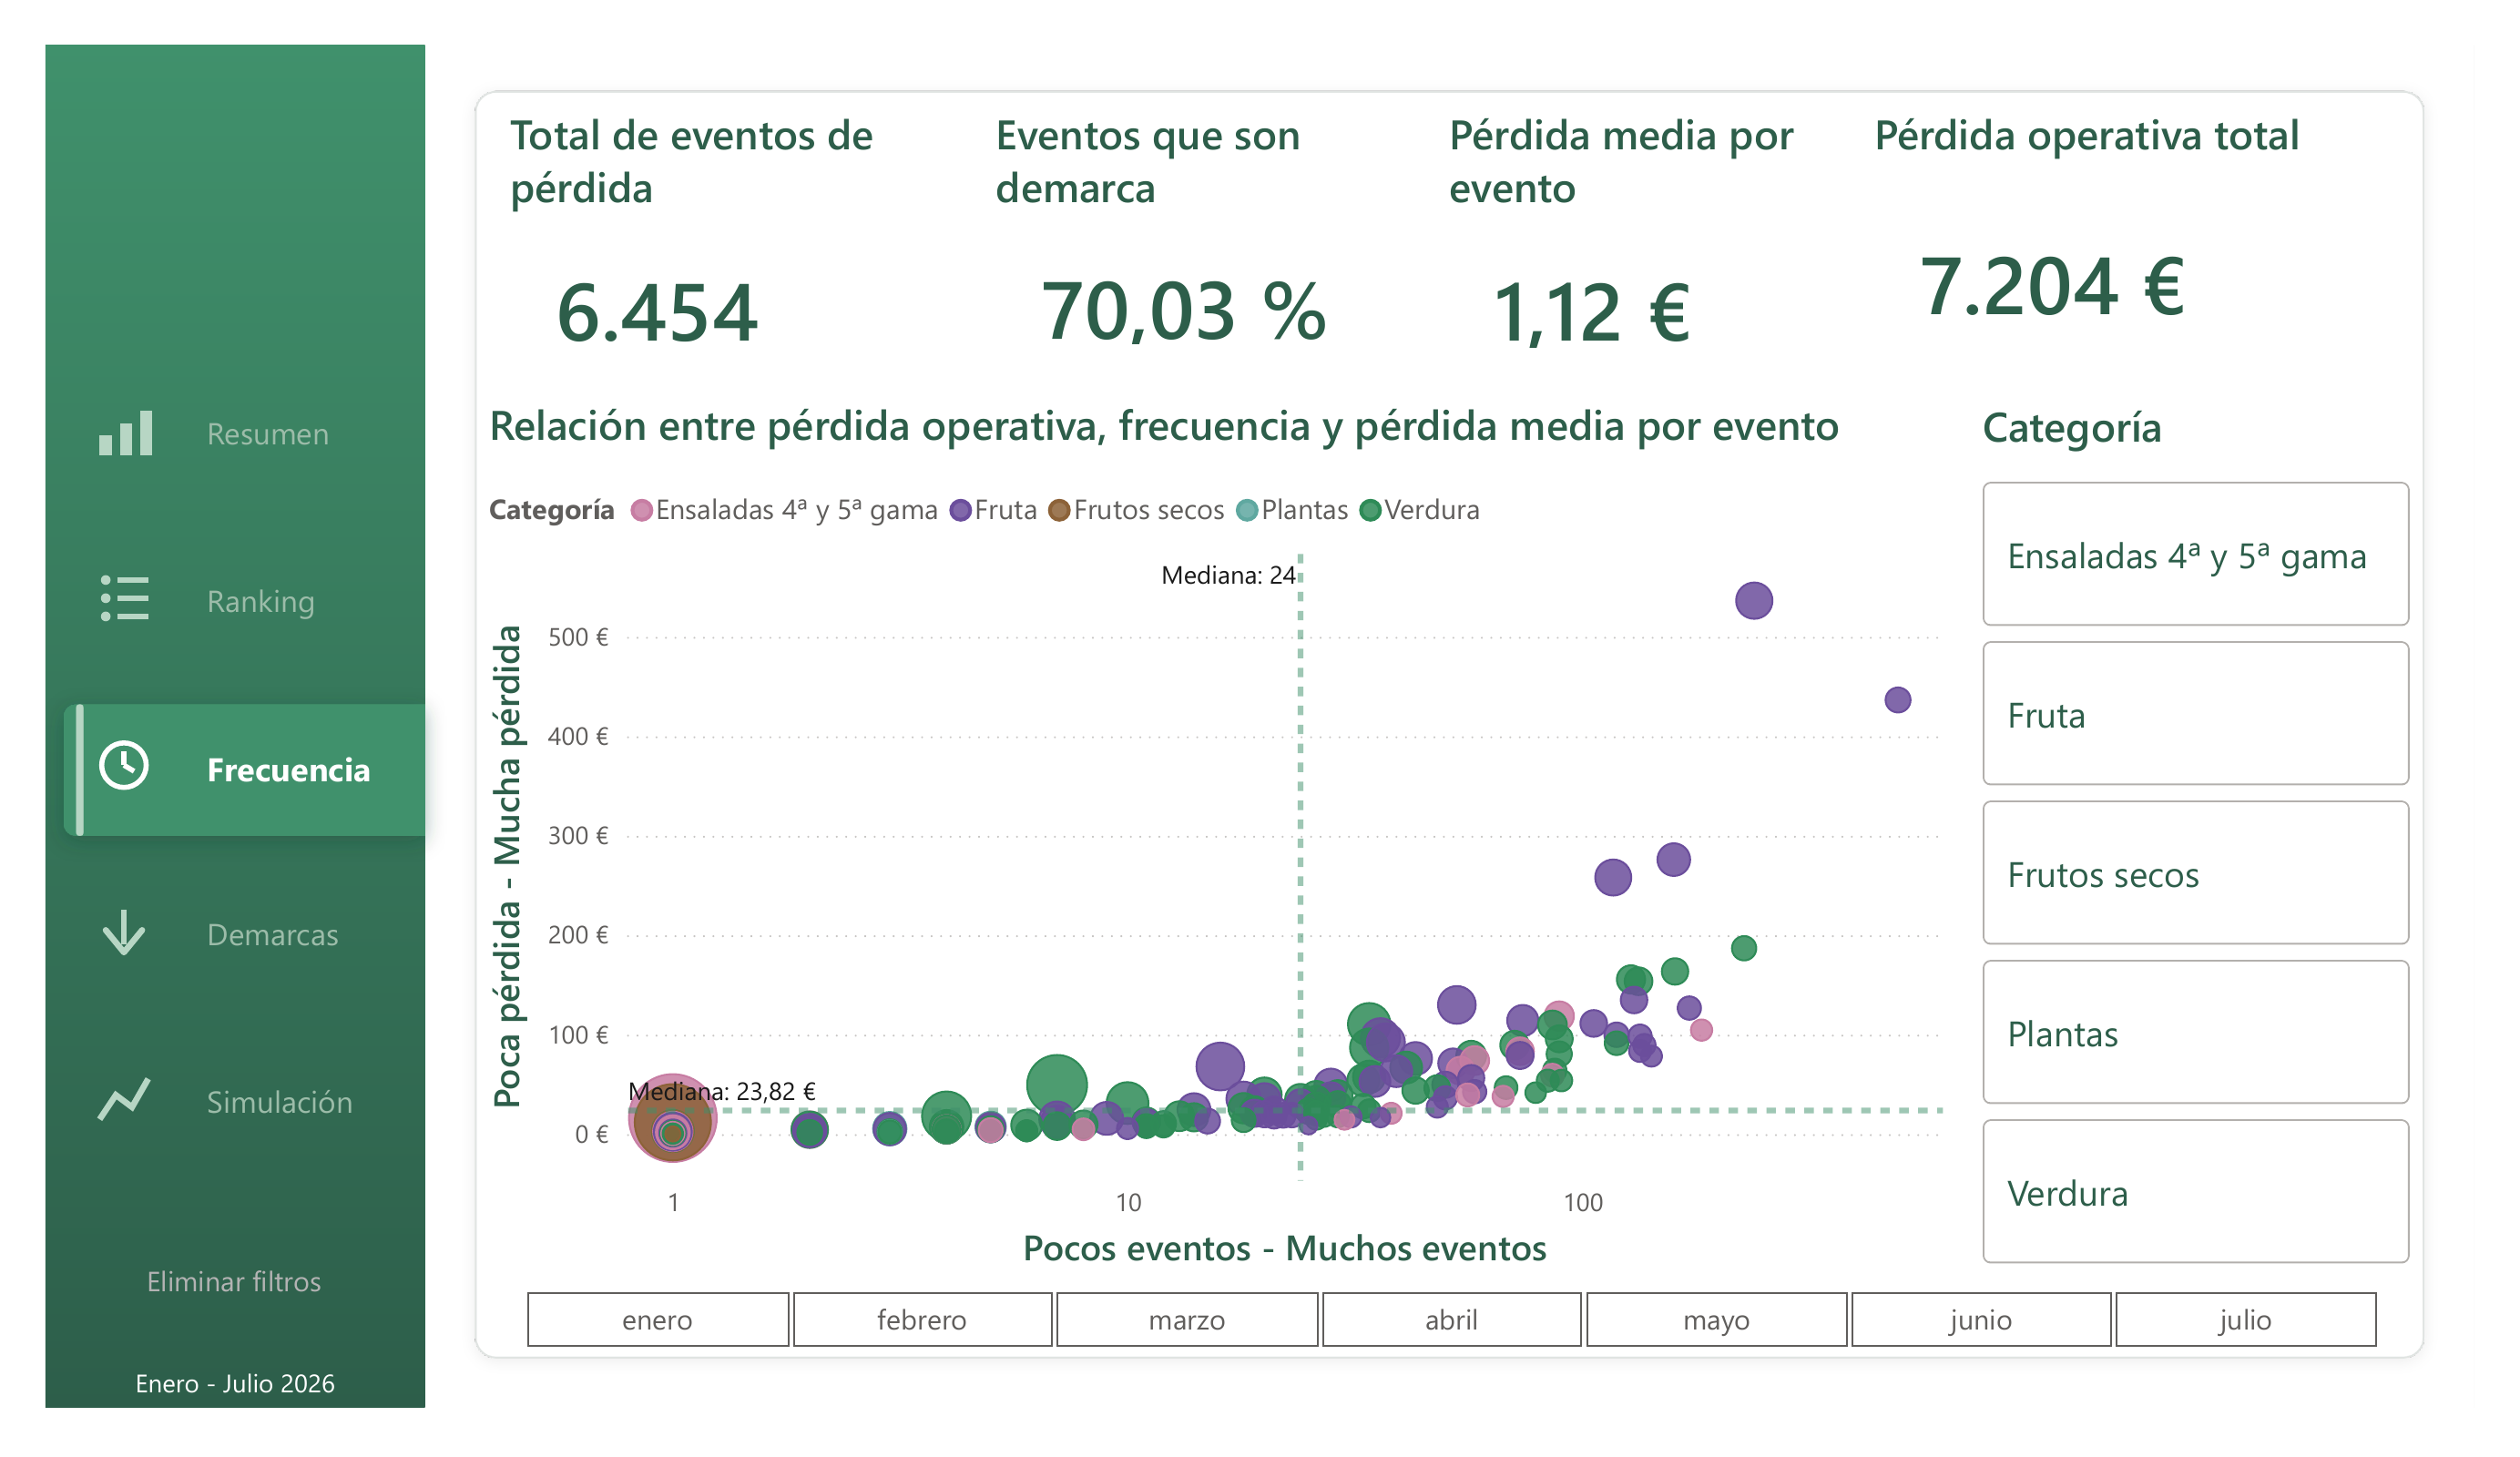

The dashboard page shown, as its layout file describes it:
{"tool":"powerbi","page":{"name":"Frecuencia","canvas":[1280,720],"ordinal":2},"visuals":[{"type":"cardVisual","title":"Total de eventos de pérdida","fields":{"Data":["_Medidas_inventario.Nº Eventos de impacto"]},"box":[240,32,256,144],"z":0},{"type":"cardVisual","title":"Pérdida media por evento","fields":{"Data":["_Medidas_inventario.Impacto  Medio por Evento"]},"box":[735.3,31.8,223.9,144.5],"z":1000},{"type":"scatterChart","title":"Relación entre pérdida operativa, frecuencia y pérdida media por evento","fields":{"Category":["Productos.nombre"],"Series":["Productos.Categoría"],"Y":["_Medidas_Pérdidas_Operativas.Pérdida operativa total (€)"],"X":["_Medidas_Pérdidas_Operativas.Nº Eventos de pérdida"],"Size":["_Medidas_Pérdidas_Operativas.Pérdida media por evento (€)"]},"box":[228.8,185,787.5,465],"z":2000},{"type":"advancedSlicerVisual","fields":{"Values":["Productos.Categoría"]},"box":[1016.2,186.2,235,463.8],"z":3000},{"type":"cardVisual","title":"Pérdida operativa total","fields":{"Data":["_Medidas_ImpactoEconómico.Impacto económico total (€)"]},"box":[959.2,31.8,292.2,144.5],"z":4000},{"type":"actionButton","box":[0,168.6,200,72.9],"z":5000},{"type":"actionButton","box":[0,267.1,200,52.9],"z":6000},{"type":"actionButton","box":[0,440,200,51.4],"z":7000},{"type":"actionButton","box":[0,532.9,200,47.1],"z":8000},{"type":"cardVisual","title":"Eventos que son demarca","fields":{"Data":["_Medidas_Pérdidas_Operativas.% Eventos de demarca"]},"box":[496,32,236.2,142.4],"z":9000},{"type":"textbox","box":[0,688.9,200,31.4],"z":10000},{"type":"slicer","fields":{"Values":["Calendario.Nombre Mes"]},"box":[227.5,650,1025,41.2],"z":11000},{"type":"actionButton","box":[23.8,627.5,151.2,45],"z":12000}]}

Visuals, with their boxes on the page's 1280x720 design canvas (x1, y1, x2, y2). These are canvas units, not pixel positions in the 2520x1457 screenshot, which may show the page scaled, cropped or inside an application window:
"Total de eventos de pérdida" cardVisual: 240:32:496:176
"Pérdida media por evento" cardVisual: 735:32:959:176
"Relación entre pérdida operativa, frecuencia y pérdida media por evento" scatterChart: 229:185:1016:650
advancedSlicerVisual - Productos.Categoría: 1016:186:1251:650
"Pérdida operativa total" cardVisual: 959:32:1251:176
actionButton: 0:169:200:242
actionButton: 0:267:200:320
actionButton: 0:440:200:491
actionButton: 0:533:200:580
"Eventos que son demarca" cardVisual: 496:32:732:174
textbox: 0:689:200:720
slicer - Calendario.Nombre Mes: 228:650:1252:691
actionButton: 24:628:175:672
